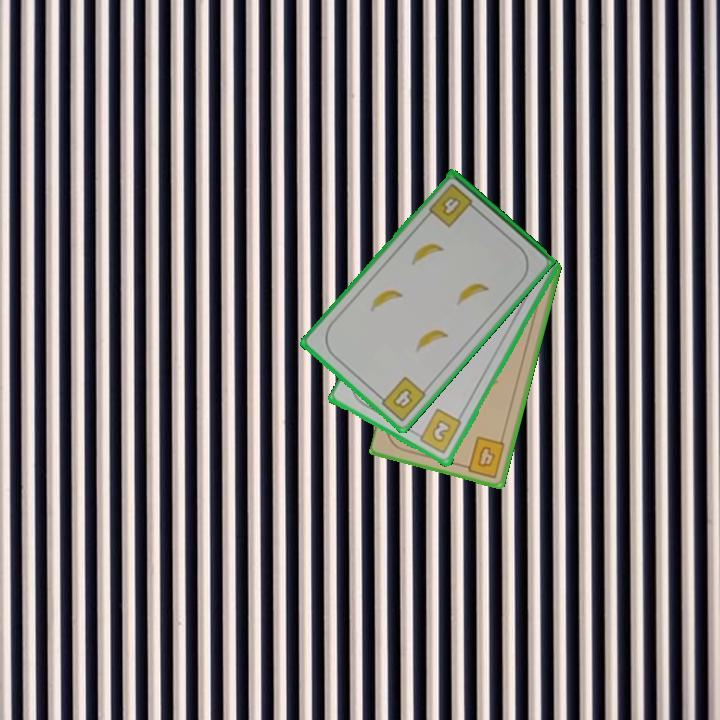2b: (411, 406, 465, 457)
4b: (373, 373, 429, 425), (425, 180, 480, 230), (458, 433, 508, 481)
